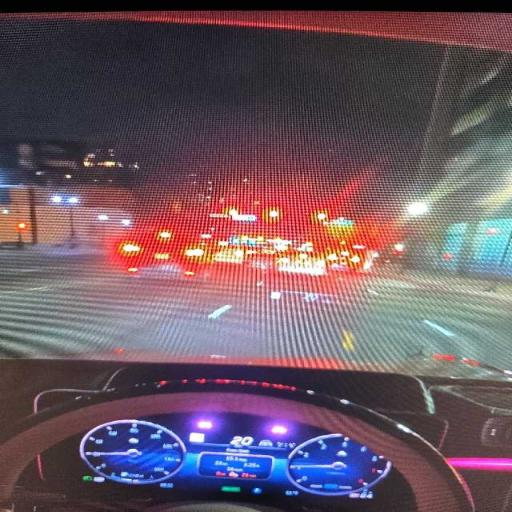car: (0, 11, 511, 511)
lane: (0, 261, 511, 369)
